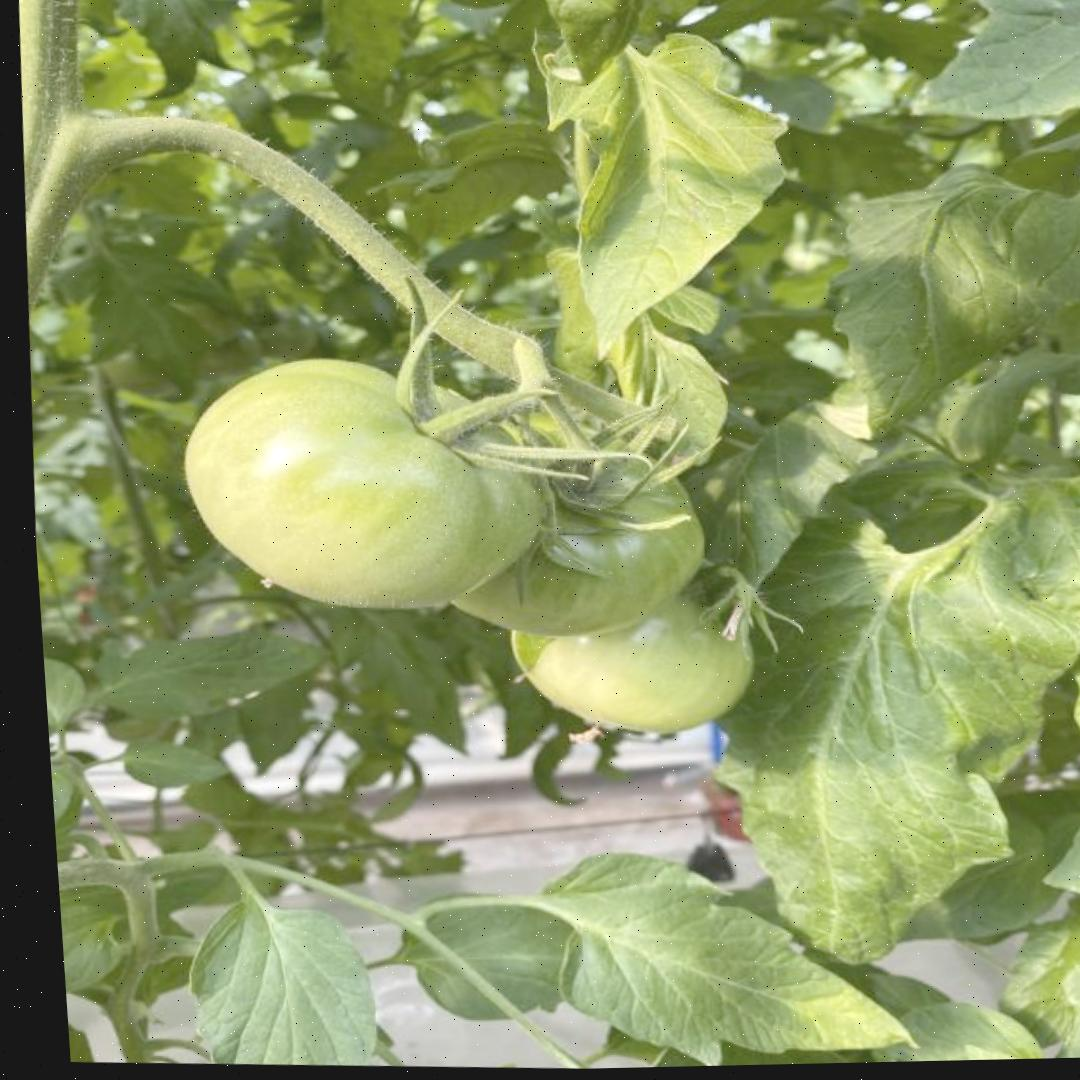mentah: (171, 348, 560, 620)
